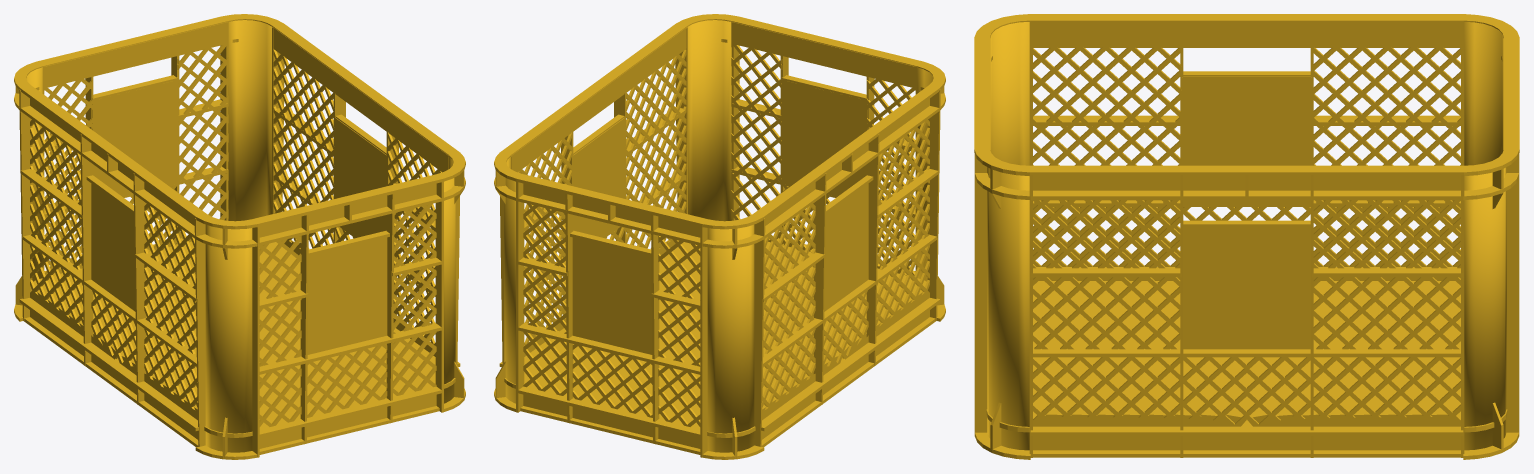
File: PlasticCrate_01.fbx
3 renders of one model, left to right at view 1: azimuth 30°, elevation 25°; view 2: azimuth 150°, elevation 25°; view 3: azimuth 270°, elevation 25°, orthographic. The views are drawn at different scales.
Visible parts, largest first — view 1: Cube.057; view 2: Cube.057; view 3: Cube.057.
Part boxes in pixels (<box>): Cube.057: <box>14,14,465,459</box>; Cube.057: <box>494,14,945,459</box>; Cube.057: <box>974,14,1519,459</box>.
Size of the model in its own units: 0.3572 by 0.3012 by 0.518.
